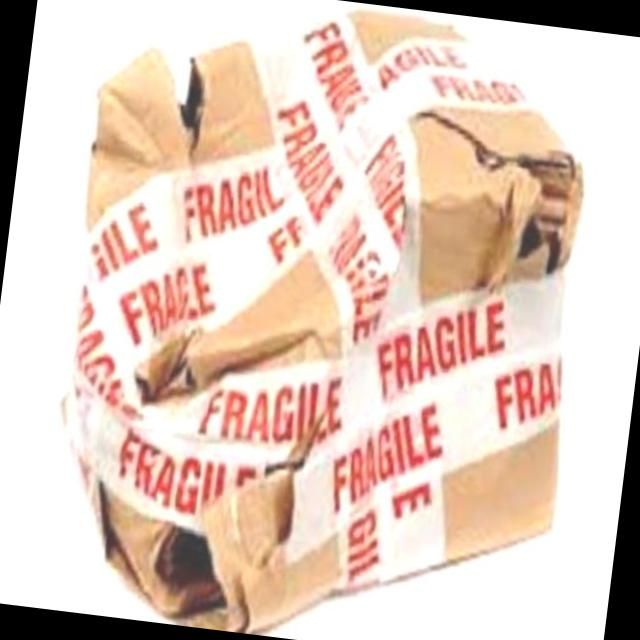box: (73, 0, 583, 640)
crushed: (129, 221, 271, 411)
opened: (426, 106, 581, 281), (95, 467, 243, 640), (121, 41, 225, 160)
